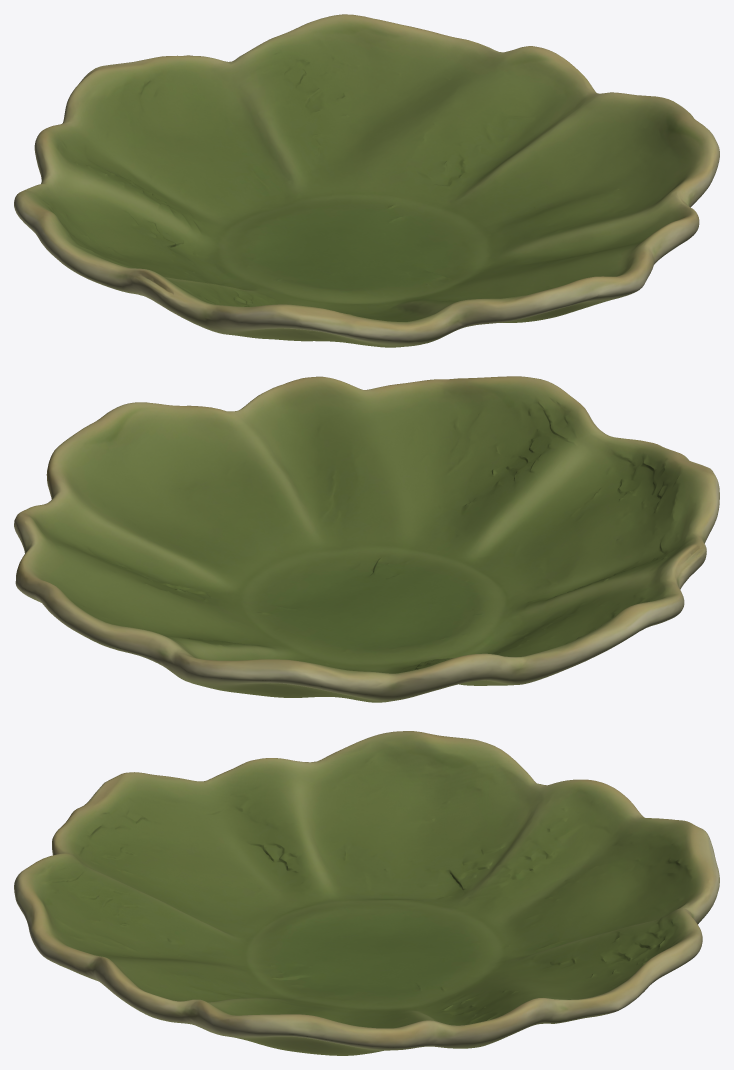
Rendered from 56dcb50b-757a-44a7-a69f-da1dd3744564.glb.
The picture shows the model from 3 angles, top to bottom: view 1: azimuth 30°, elevation 25°; view 2: azimuth 150°, elevation 25°; view 3: azimuth 270°, elevation 25°; orthographic projection. The views are drawn at different scales.
Parts seen in each view (by area): view 1: tripo_node_7995f59d-c670-4531-a8d9-0794856ca2b7; view 2: tripo_node_7995f59d-c670-4531-a8d9-0794856ca2b7; view 3: tripo_node_7995f59d-c670-4531-a8d9-0794856ca2b7.
Part boxes in pixels (box(x1,y1,x2,y2)): tripo_node_7995f59d-c670-4531-a8d9-0794856ca2b7: box(14, 14, 719, 347); tripo_node_7995f59d-c670-4531-a8d9-0794856ca2b7: box(14, 376, 719, 702); tripo_node_7995f59d-c670-4531-a8d9-0794856ca2b7: box(14, 731, 719, 1055).
Size of the model in its own units: 0.995 by 0.1929 by 1.
1 material, 1 textured.
